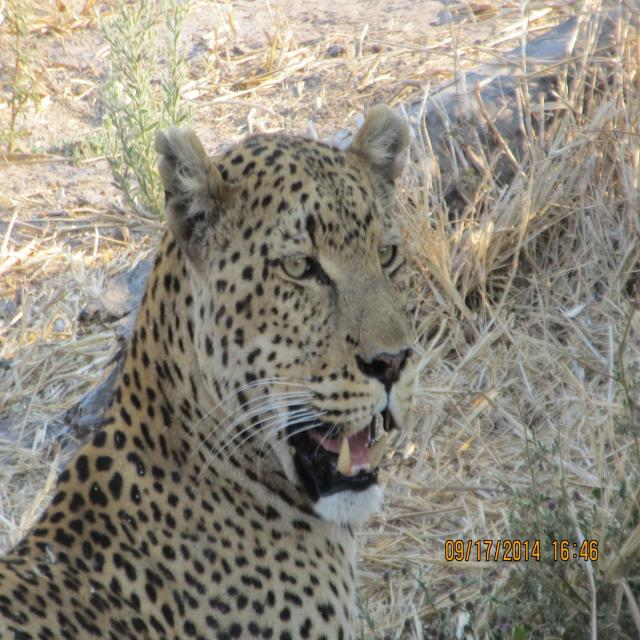Leopard: (0, 85, 629, 639)
